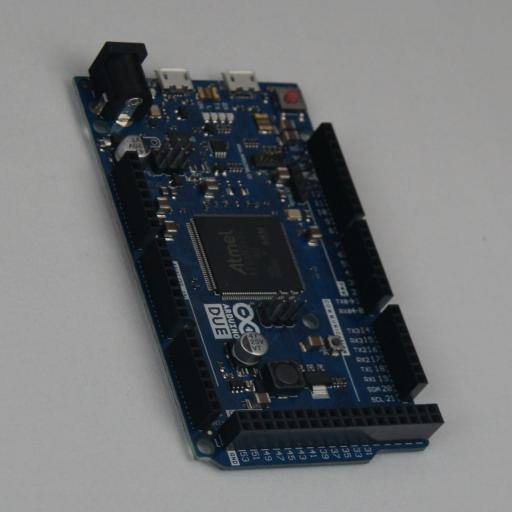Arduino Due: (73, 42, 444, 470)
